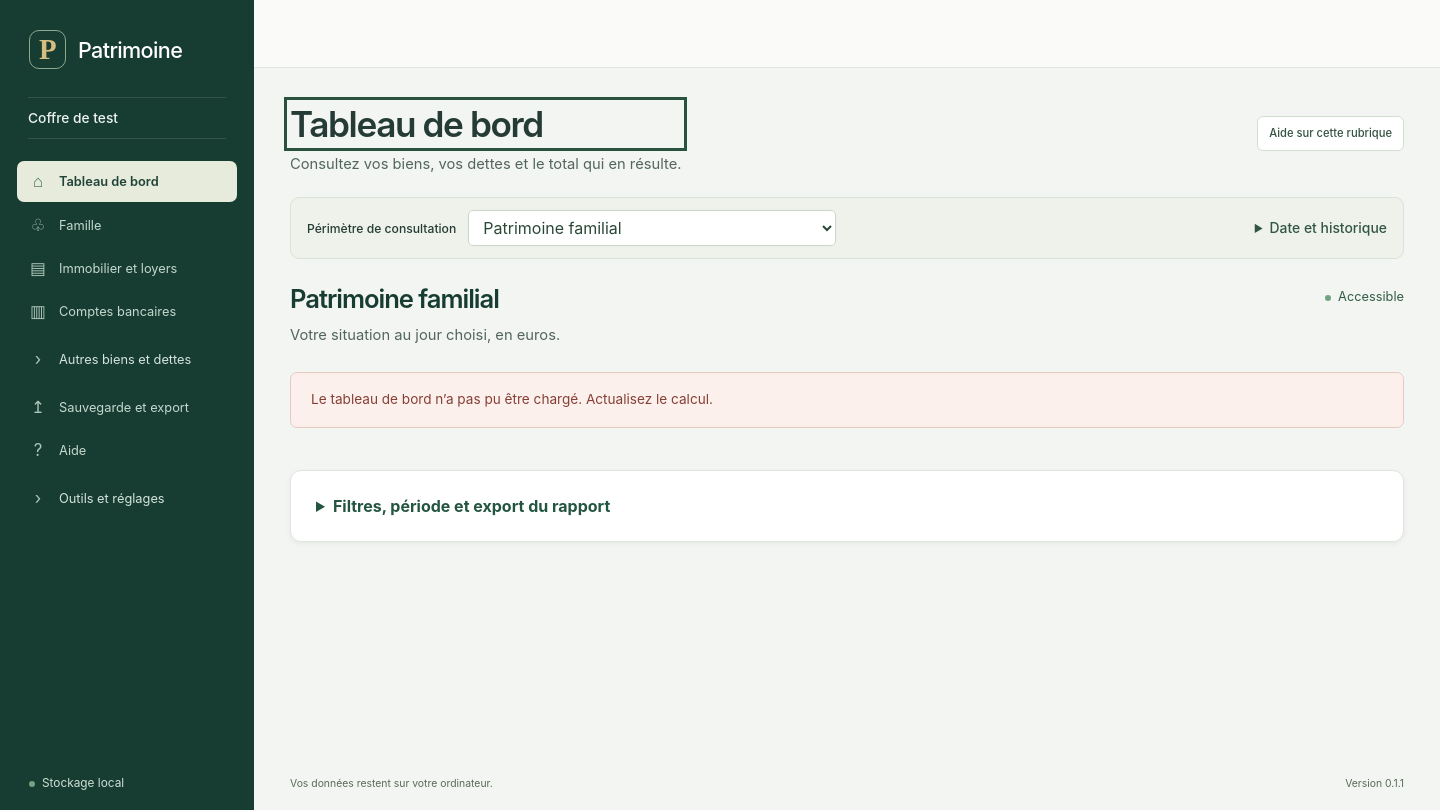
Test: conserve le brouillon des paramètres après changement de page
This screenshot has width=1440, height=810.
Expected: the text "Coffre de test" is shown, [28,110,118,126]
Click the button "› Outils et réglages" at point(127, 498), box [17,478,237,518]
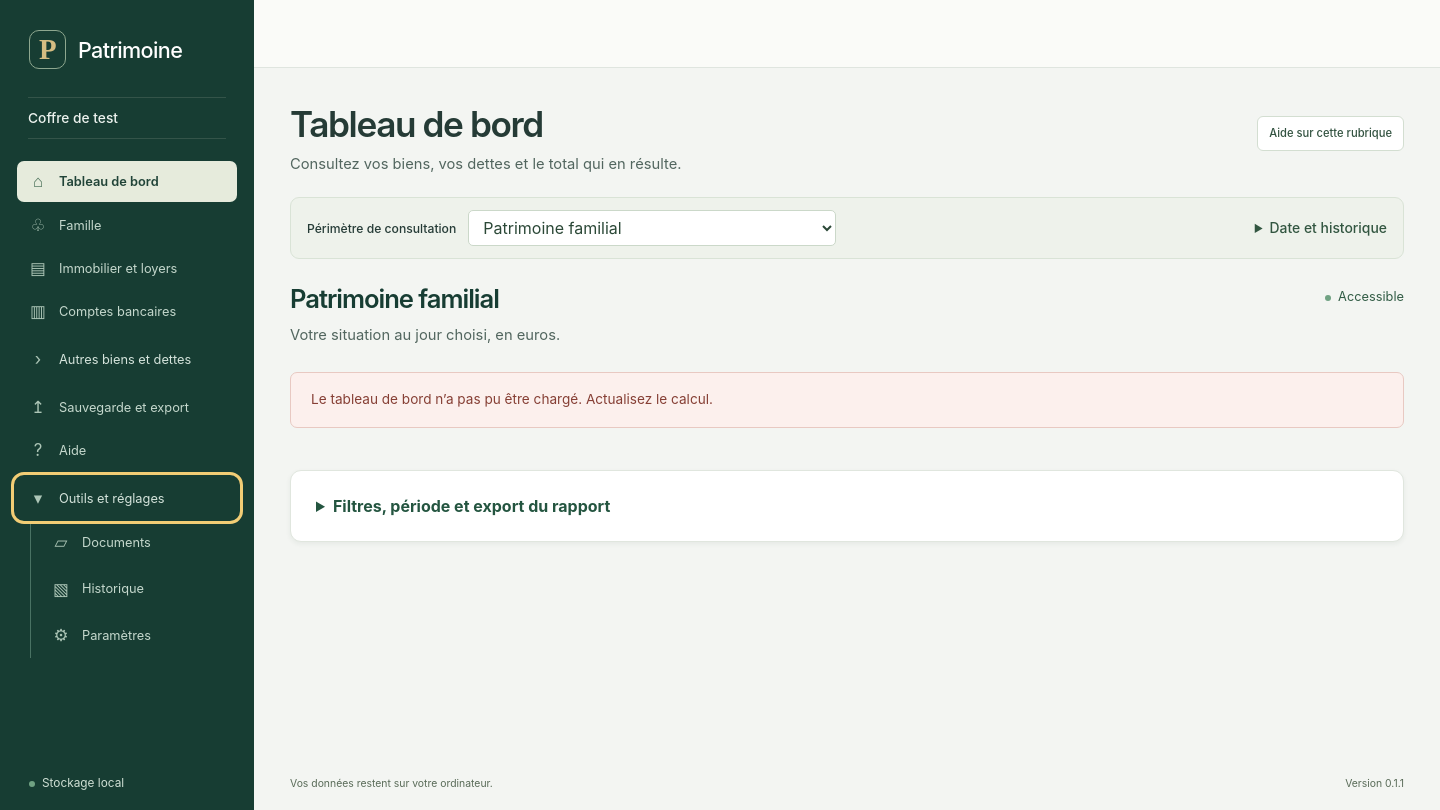
Click the button "⚙ Paramètres" at point(138, 636), box [40,614,237,658]
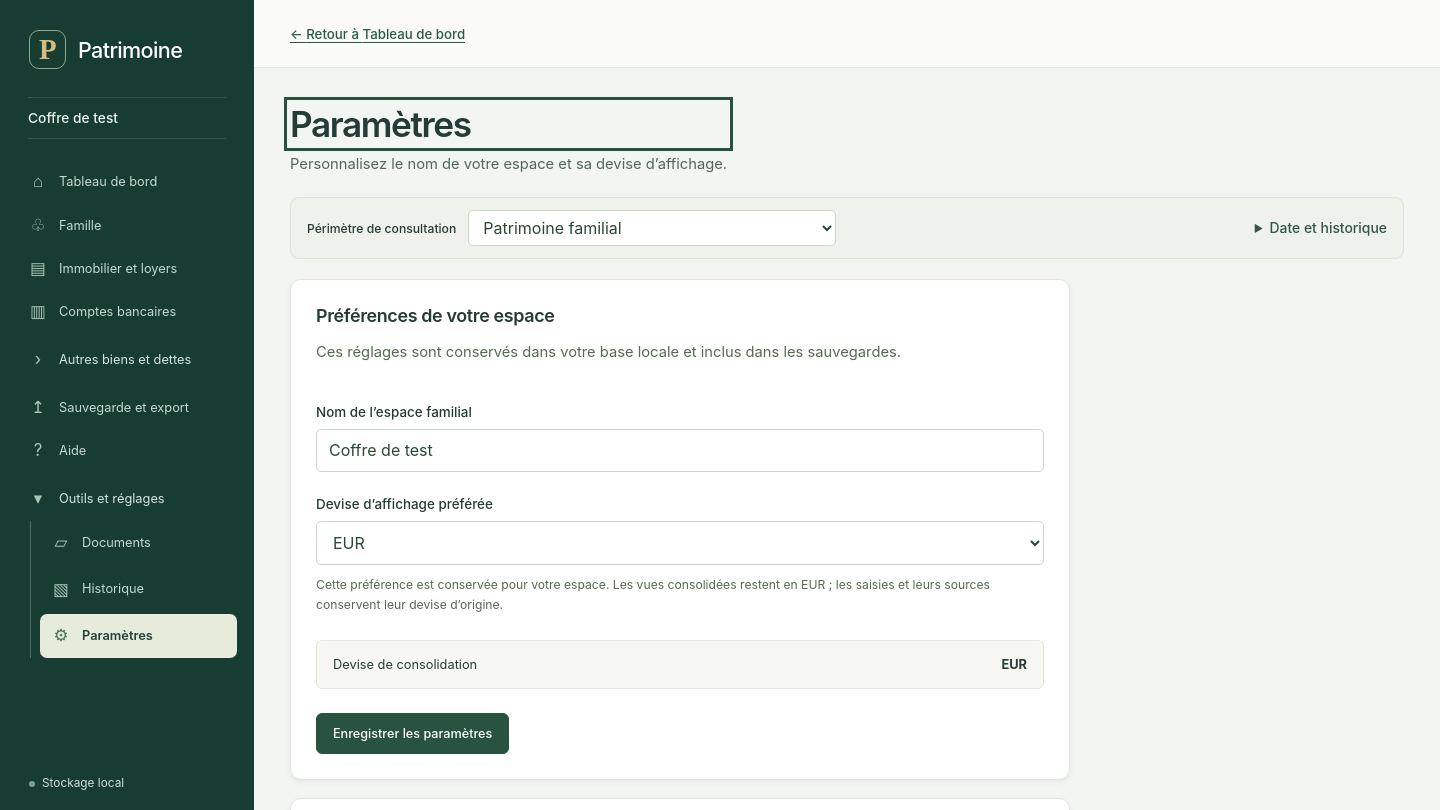
Replace the text in the field labelled "Nom de l’espace familial" with "Brouillon à conserver" at point(680, 450), box [316,429,1044,472]
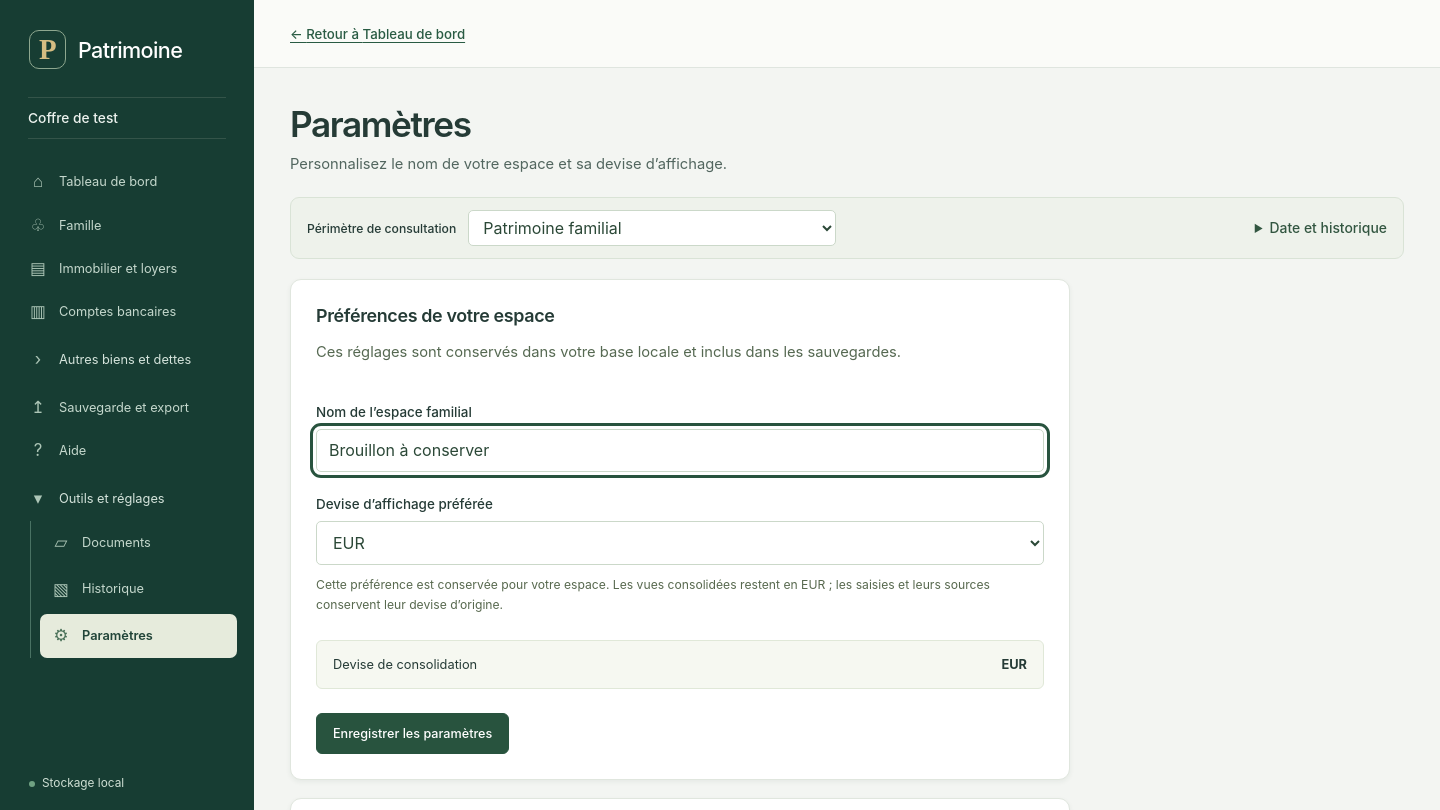
Click the button "♧ Famille" at point(127, 225), box [17,205,237,245]
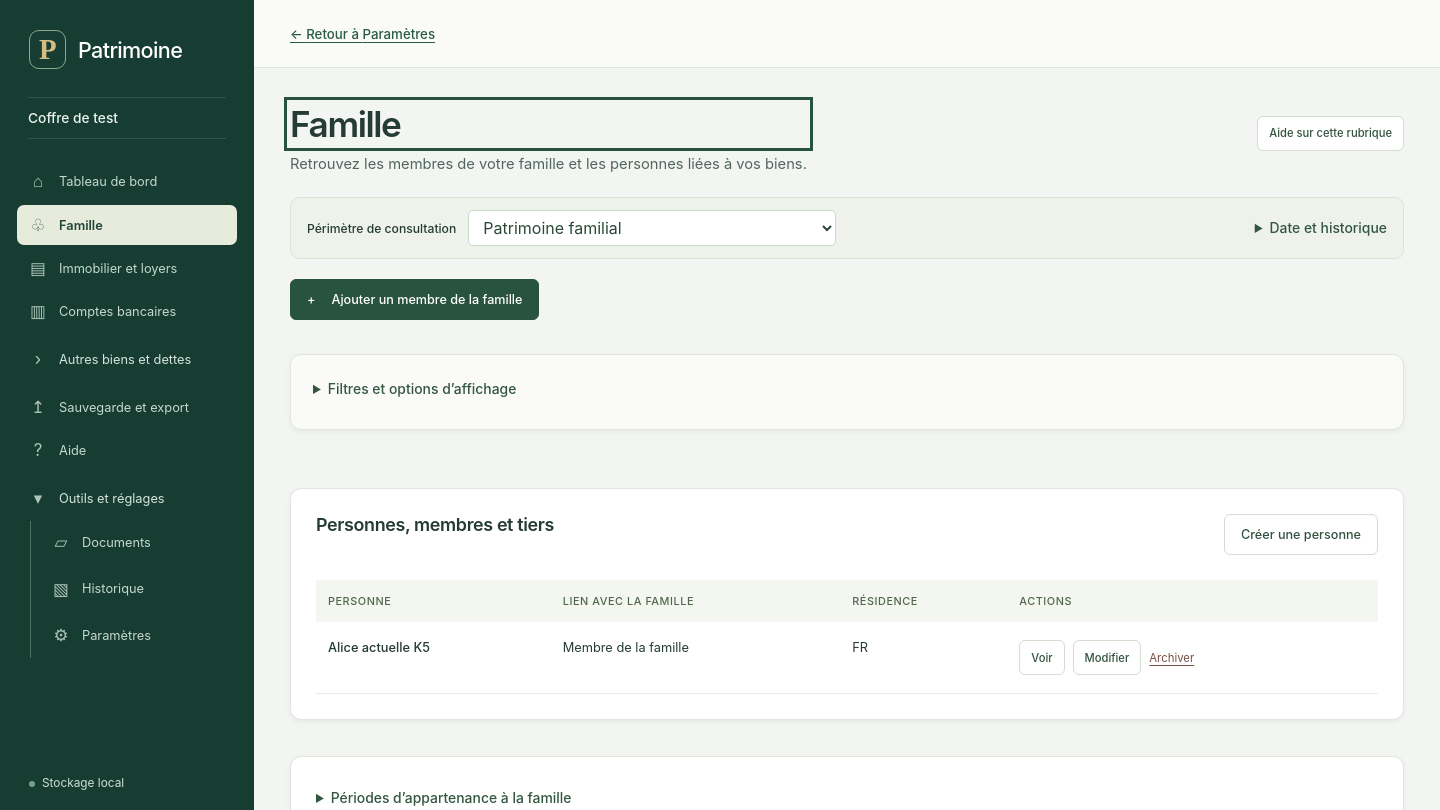
Click the button "⚙ Paramètres" at point(138, 636), box [40,614,237,658]
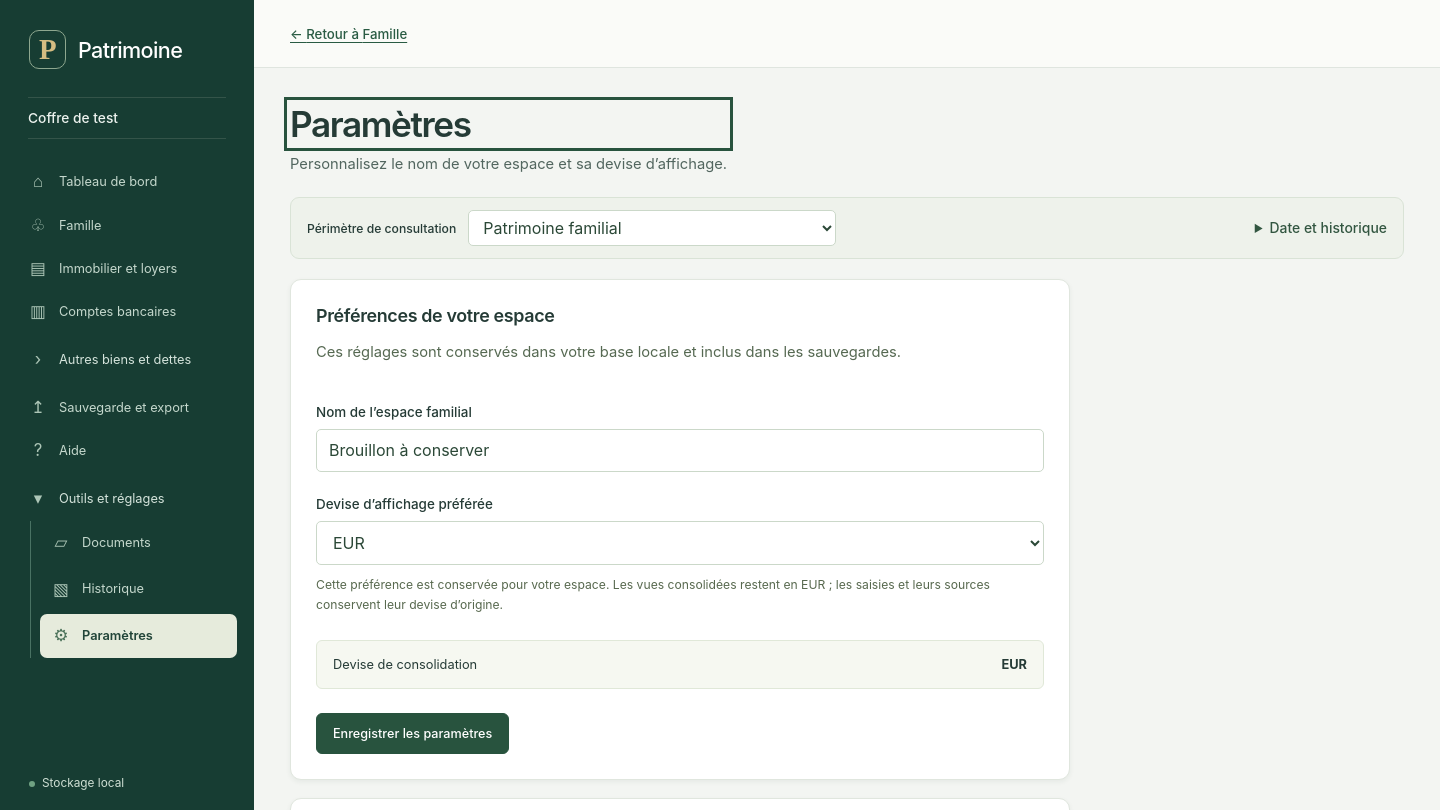
Result: the field labelled "Nom de l’espace familial" holds "Brouillon à conserver" at [316,429,1044,472]
